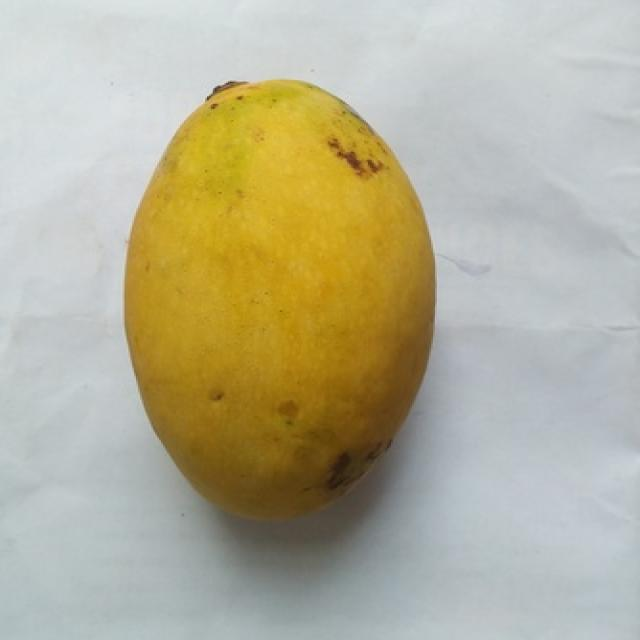Mango: (126, 80, 431, 517)
